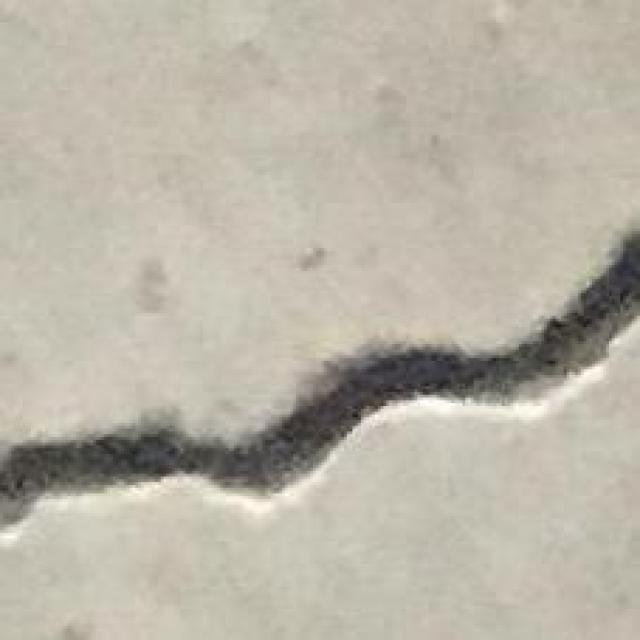diagonal crack: (0, 232, 640, 524)
